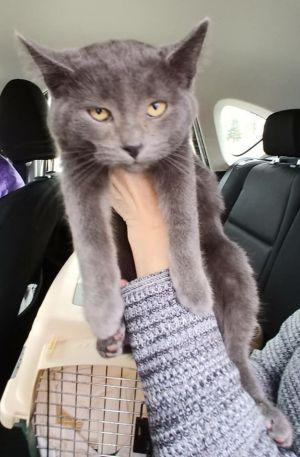rblue: (9, 2, 225, 209)
